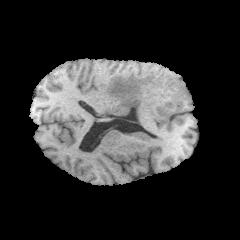glioma: (106, 68, 186, 128)
